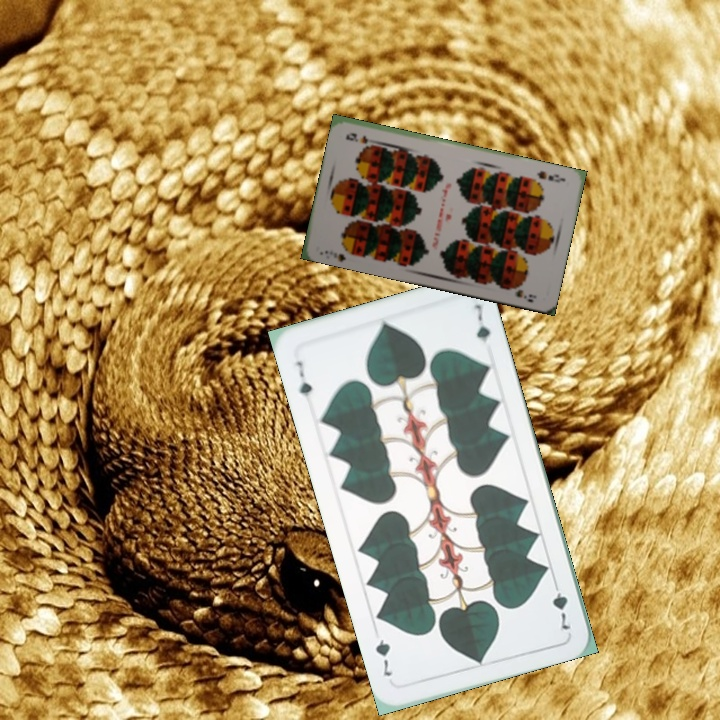G7: (548, 575, 573, 632), (292, 357, 315, 399)
S9: (533, 167, 568, 185), (321, 246, 349, 263)
